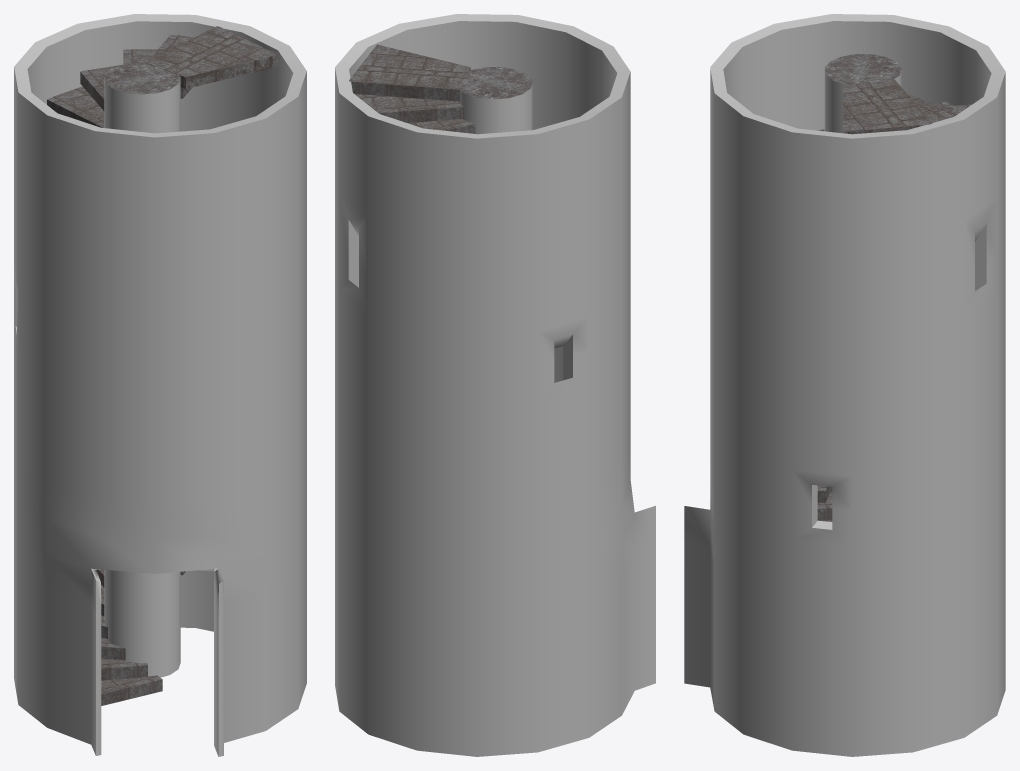
File: Spiral Staircase Room 02.fbx
The picture shows the model from 3 angles, left to right: view 1: azimuth 30°, elevation 25°; view 2: azimuth 150°, elevation 25°; view 3: azimuth 270°, elevation 25°; orthographic projection.
Parts seen in each view (by area): view 1: Cylinder_001; view 2: Cylinder_001; view 3: Cylinder_001.
Boxes of the visible parts, left/top/right/bottom form: Cylinder_001: left=14, top=14, right=306, bottom=756; Cylinder_001: left=335, top=14, right=655, bottom=756; Cylinder_001: left=684, top=14, right=1005, bottom=756.
Bounding box in the file's own units: 507 × 1171 × 552.
